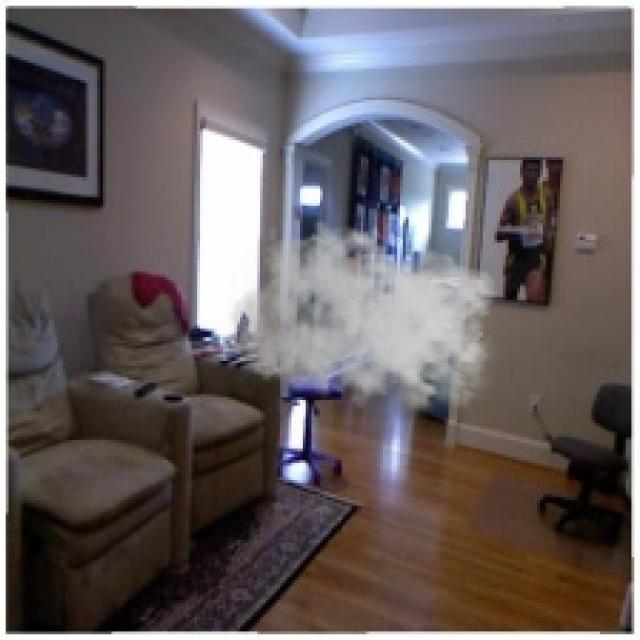smoke: (228, 220, 506, 423)
